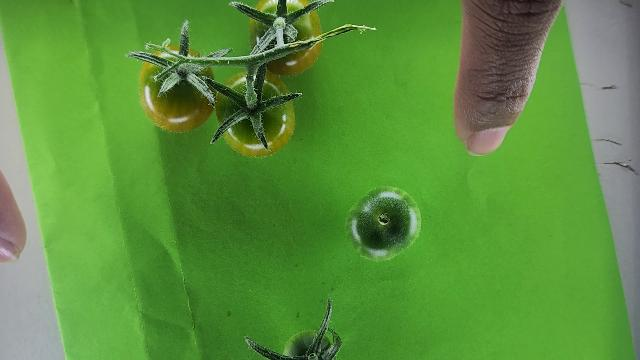Fruit Maturation: (344, 187, 422, 263)
Fully Grown: (138, 44, 218, 132), (217, 69, 296, 157), (250, 0, 323, 77)
